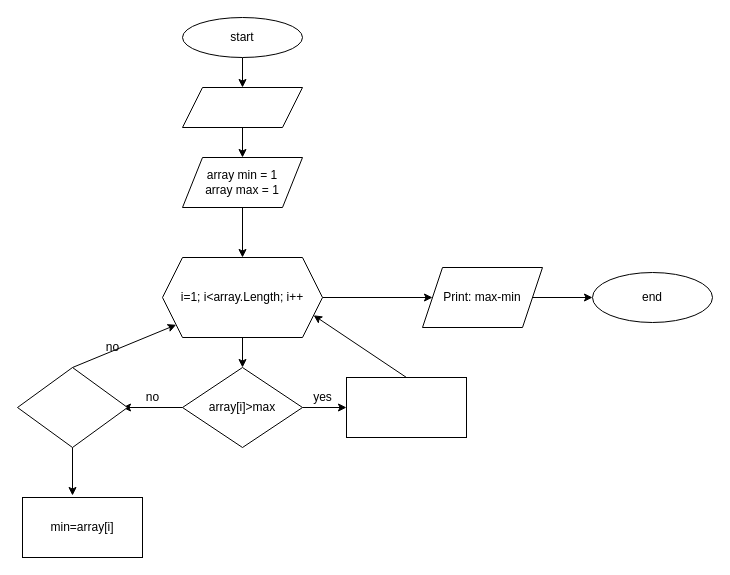
This 730x575 diagram has some shape labels left out. The shapes that lost their labels are listed below. From the top down, each one's box as (x1, y1, x2, y2) in pixels, then its label:
(182, 86, 302, 128): array
(16, 366, 128, 448): array[i]<min
(346, 376, 466, 438): max = array[i]
